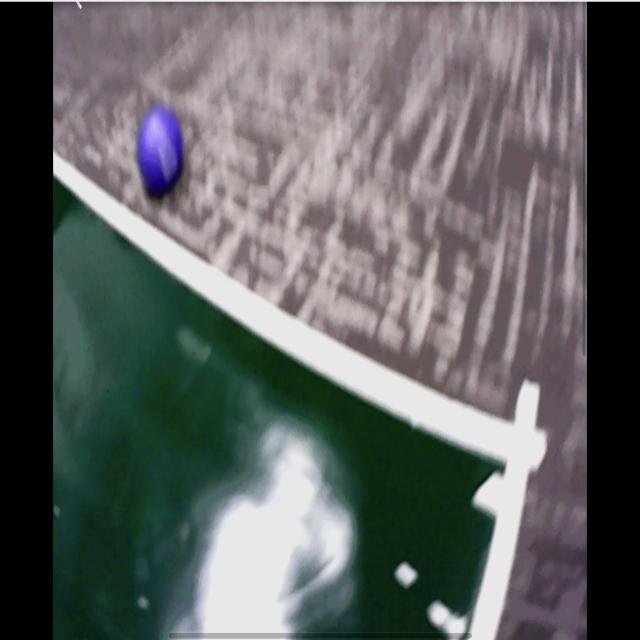ball: (136, 106, 184, 192)
